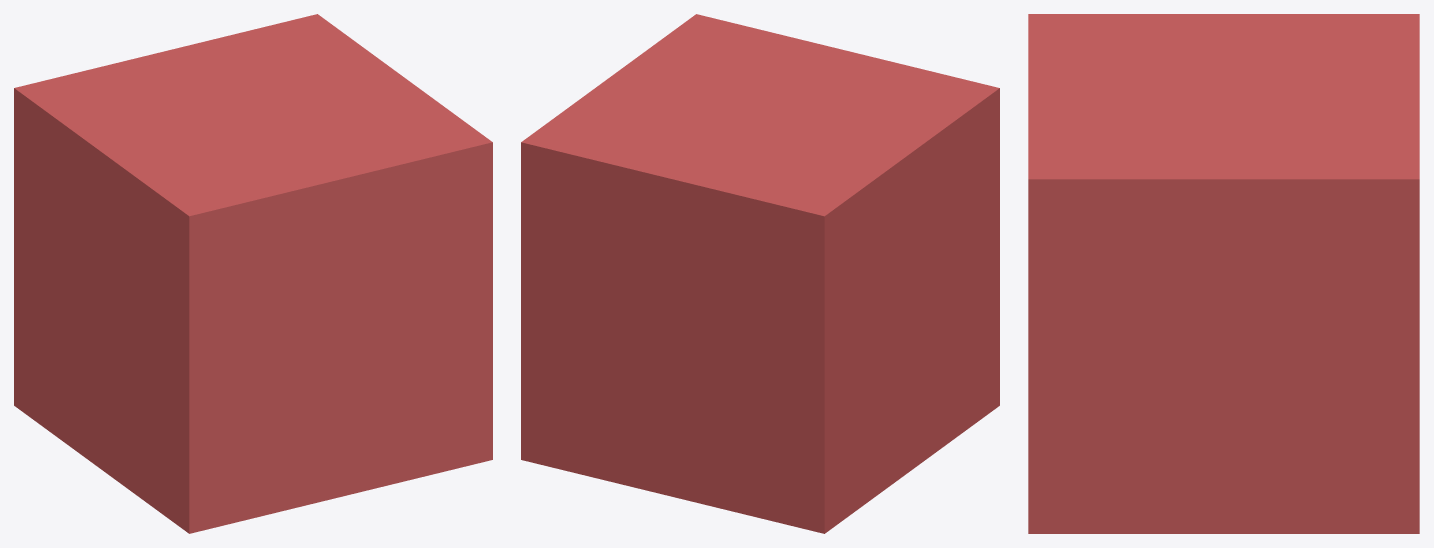
Rendered from ct_mecha_obj01.glb.
3 views of the same model, side by side, from view 1: azimuth 30°, elevation 25°; view 2: azimuth 150°, elevation 25°; view 3: azimuth 270°, elevation 25° (orthographic). The views are drawn at different scales.
Parts seen in each view (by area): view 1: ct_mecha_obj01_col; view 2: ct_mecha_obj01_col; view 3: ct_mecha_obj01_col.
Boxes of the visible parts, x1,y1,x2,y2 form: ct_mecha_obj01_col: [14, 14, 492, 533]; ct_mecha_obj01_col: [521, 14, 999, 533]; ct_mecha_obj01_col: [1028, 14, 1419, 533].
Size of the model in its own units: 0.3901 by 0.3901 by 0.3901.
